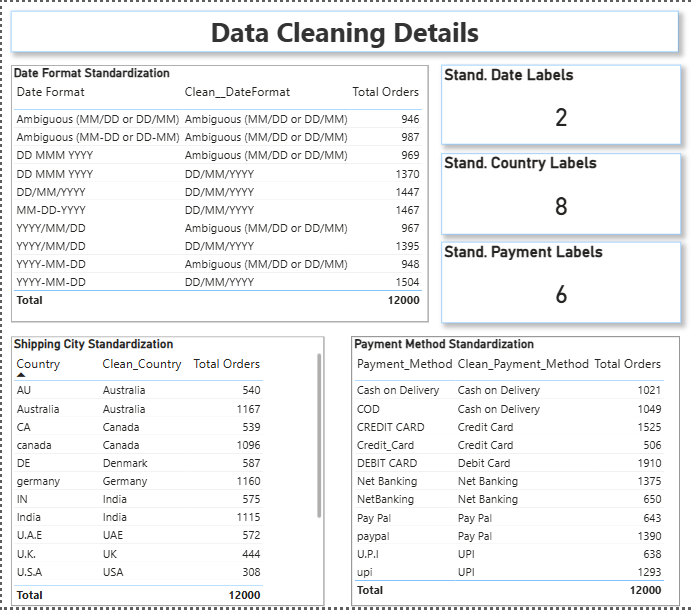

The page's visual inventory and layout, read from the dashboard file:
{"tool":"powerbi","page":{"name":"Cleaning Details","canvas":[1500,1300],"ordinal":1},"visuals":[{"type":"shape","box":[20.6,20.6,1435.3,88.2],"z":0},{"type":"tableEx","title":"Payment Method Standardization","fields":{"Values":["Working1.Payment_Method","Final_DQ_Clean.Payment_Method","CountNonNull(Working1.Order_ID)"]},"box":[750,720.6,705.9,579.4],"z":1000},{"type":"tableEx","title":"Shipping City Standardization","fields":{"Values":["Working1.Country","Working_1.Country","Working_1.Order_ID"]},"box":[20.6,720.6,673.5,579.4],"z":2000},{"type":"tableEx","title":"Date Format Standardization","fields":{"Values":["Transactions_RawFile (2).Date Format","Final_DQ_Clean.Date_Format","Final_DQ_Clean.Order_ID"]},"box":[20.6,135.3,897.1,552.9],"z":3000},{"type":"card","title":"Stand. Date Labels","fields":{"Values":["Measures Table.Stand. Date Labels"]},"box":[944.4,137,514.8,170.4],"z":4000},{"type":"card","title":"Stand. Country Labels","fields":{"Values":["Measures Table.Standardized Country Labels"]},"box":[944.4,325.9,514.8,174.1],"z":5000},{"type":"card","title":"Stand. Payment Labels","fields":{"Values":["Measures Table.Standardized Payment Labels"]},"box":[944.4,514.8,514.8,174.1],"z":6000}]}

Visuals, with their boxes in screenshot pixels (x1, y1, x2, y2), scaled from the page's 1500x1300 canvas onto the 694x611 screenshot:
shape: (10, 10, 674, 51)
"Payment Method Standardization" tableEx: (347, 339, 674, 610)
"Shipping City Standardization" tableEx: (10, 339, 321, 610)
"Date Format Standardization" tableEx: (10, 64, 425, 323)
"Stand. Date Labels" card: (437, 64, 675, 144)
"Stand. Country Labels" card: (437, 153, 675, 235)
"Stand. Payment Labels" card: (437, 242, 675, 324)
